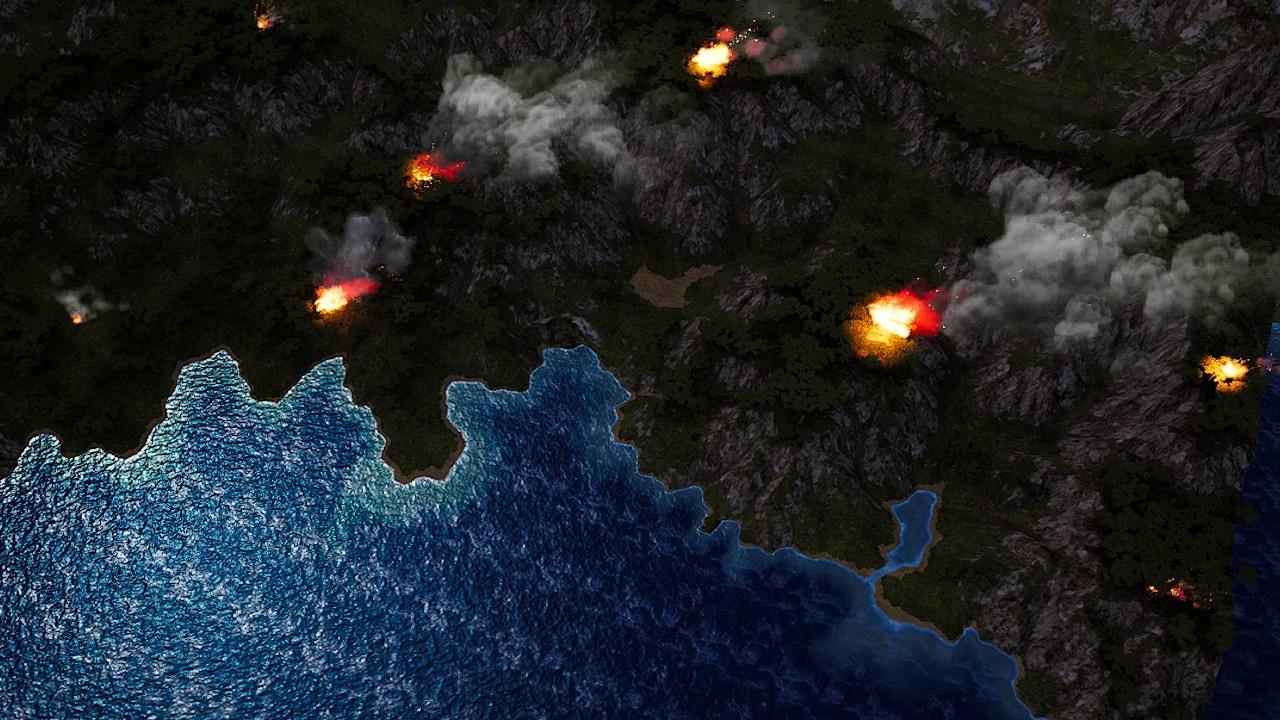fire: (746, 20, 830, 74), (862, 287, 925, 351), (688, 30, 735, 78), (407, 151, 462, 191), (1148, 570, 1197, 608), (316, 283, 365, 316), (1205, 357, 1245, 386), (68, 312, 87, 328), (257, 20, 277, 32)
smoke: (924, 168, 1270, 354), (436, 52, 696, 197), (313, 208, 420, 276), (51, 265, 108, 337)
